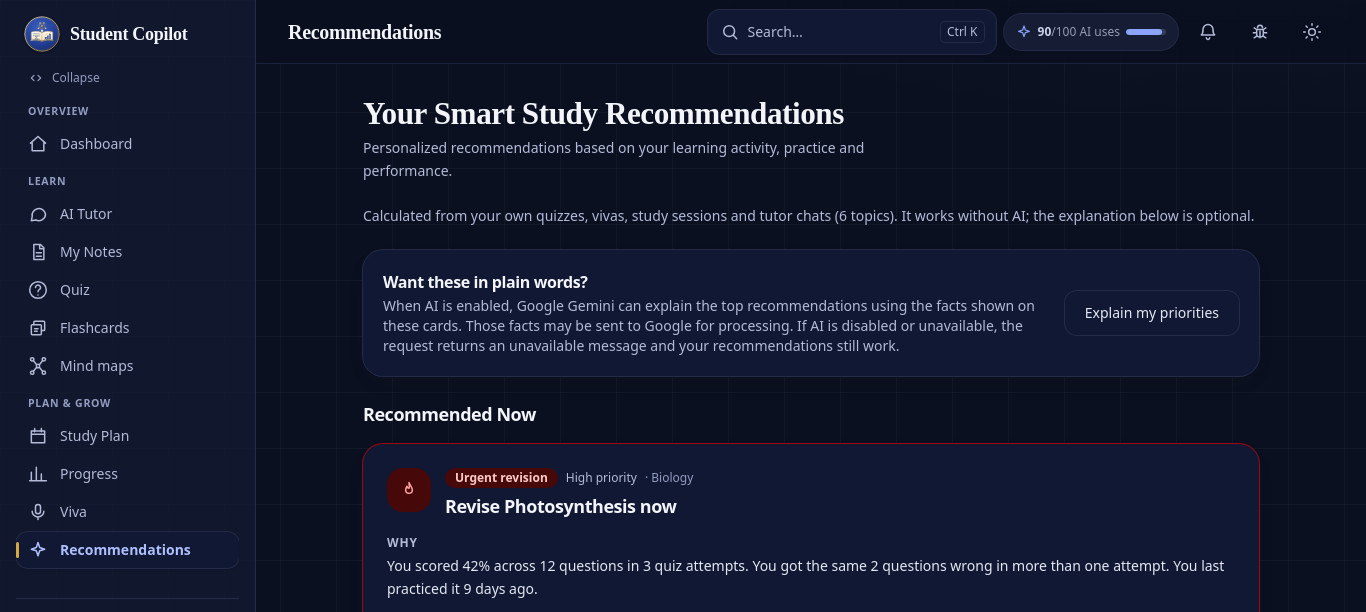
Test: the optional AI explanation › when the AI is unavailable the page says so calmly and keeps every recommendation
Click the button "Explain my priorities". click: (1152, 313)
box: [1065,291,1239,335]
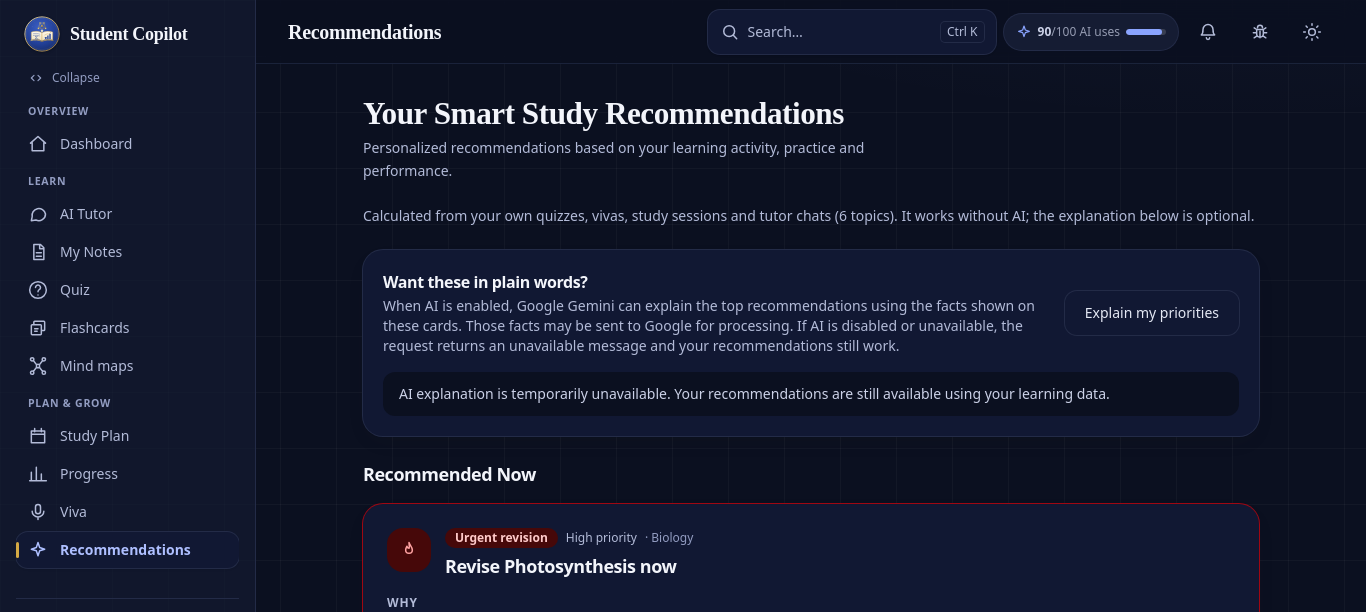
Now the text "AI explanation is temporarily unavailable" is shown, box [399,384,1110,403]
